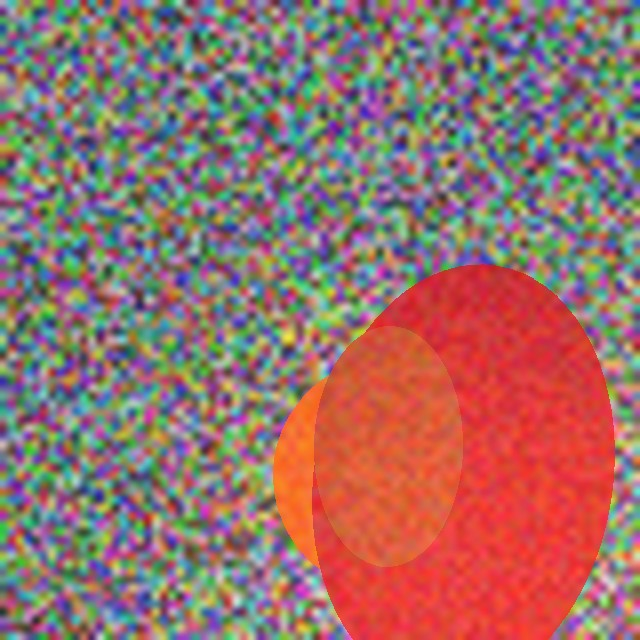fire: (297, 414, 581, 598)
